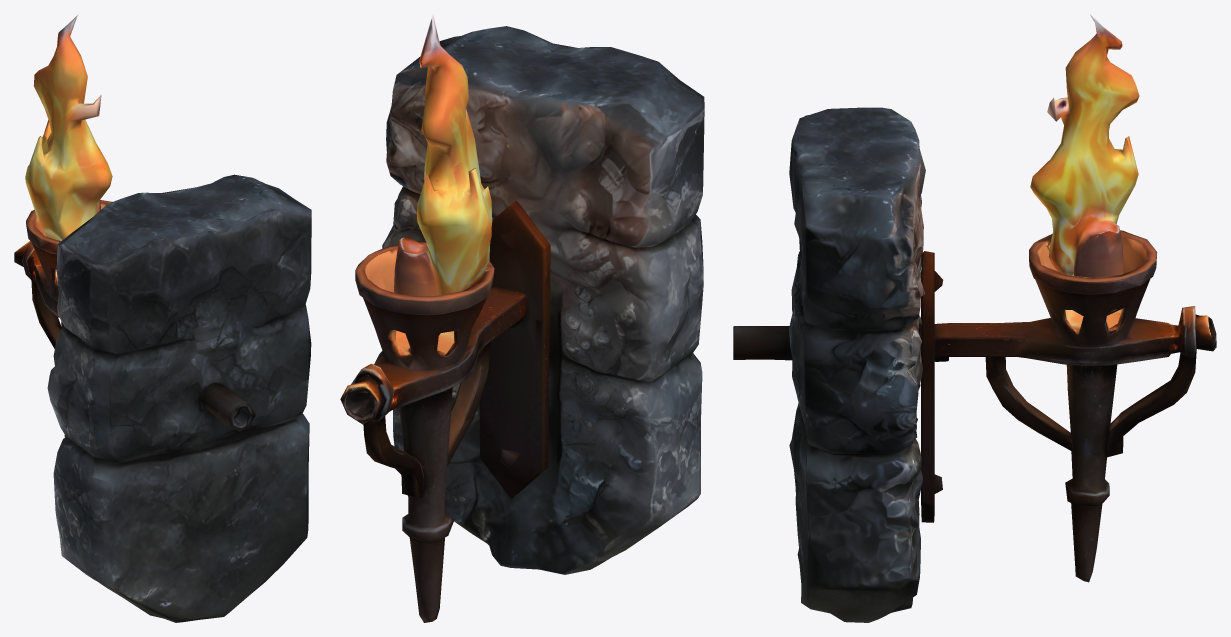
Rendered from medieval+wall+torch+3d+model.obj.
3 views of the same model, side by side, from view 1: azimuth 30°, elevation 25°; view 2: azimuth 150°, elevation 25°; view 3: azimuth 270°, elevation 25° (orthographic). The views are drawn at different scales.
Visible parts, largest first — view 1: tripo_node_9f756c16-83c0-443c-9831-4752002cd437; view 2: tripo_node_9f756c16-83c0-443c-9831-4752002cd437; view 3: tripo_node_9f756c16-83c0-443c-9831-4752002cd437.
Part boxes in pixels (x1,y1,x2,y2): tripo_node_9f756c16-83c0-443c-9831-4752002cd437: (14, 14, 311, 622); tripo_node_9f756c16-83c0-443c-9831-4752002cd437: (340, 14, 704, 622); tripo_node_9f756c16-83c0-443c-9831-4752002cd437: (733, 14, 1216, 622).
Bounding box in the file's own units: 0.4732 × 1 × 0.7482.
